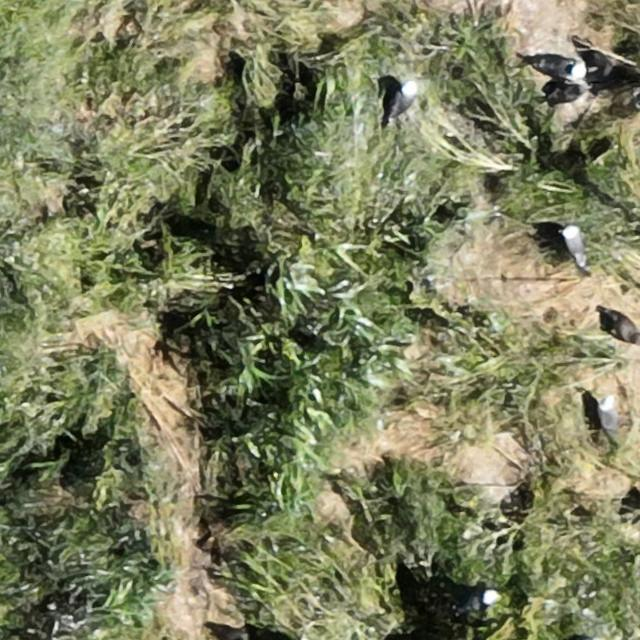umineko: (538, 59, 583, 79), (392, 82, 416, 117), (564, 225, 586, 262), (460, 591, 496, 612), (600, 400, 618, 432)
